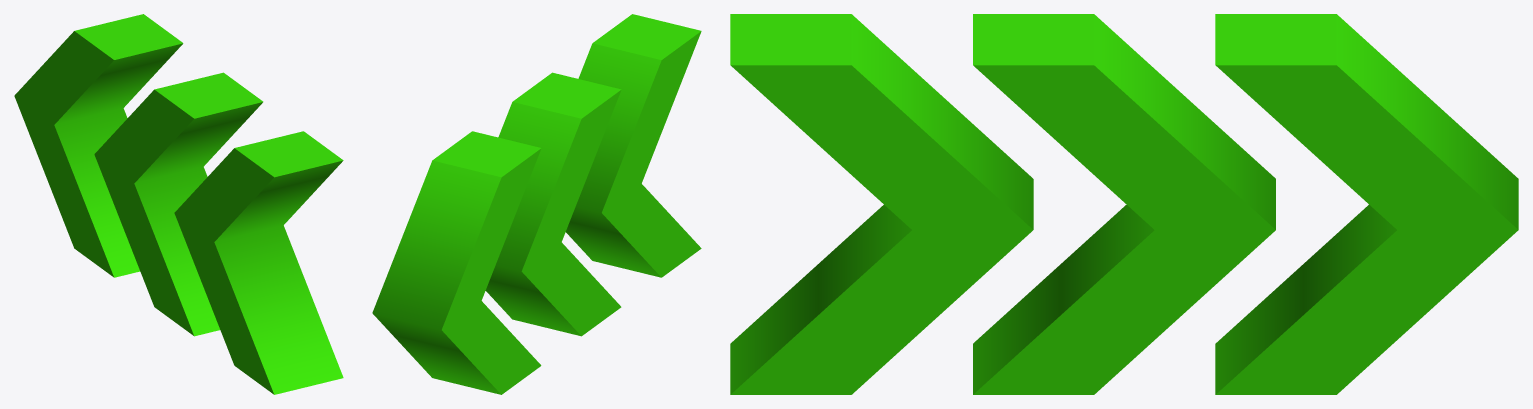
The model's file is speed_boost.fbx.
3 renders of one model, left to right at view 1: azimuth 30°, elevation 25°; view 2: azimuth 150°, elevation 25°; view 3: azimuth 270°, elevation 25°, orthographic. The views are drawn at different scales.
Visible parts, largest first — view 1: pCube8, pCube7, pCube9; view 2: pCube9, pCube7, pCube8; view 3: pCube9, pCube8, pCube7.
Part boxes in pixels (box(x1,y1,x2,y2)): pCube8: box(174, 131, 343, 394); pCube7: box(94, 72, 263, 336); pCube9: box(14, 14, 183, 277); pCube9: box(372, 131, 541, 394); pCube7: box(485, 72, 621, 336); pCube8: box(566, 14, 701, 277); pCube9: box(1215, 14, 1518, 394); pCube8: box(730, 14, 1033, 394); pCube7: box(973, 14, 1275, 394).
Bounding box in the file's own units: 2 × 6 × 13.
